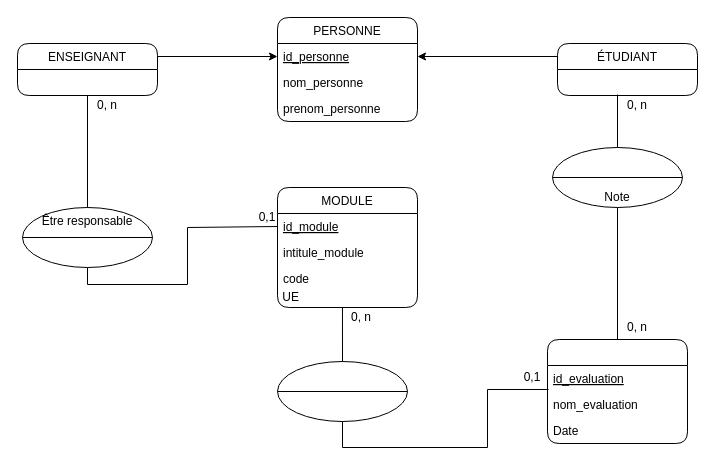
Some shapes in this 715 by 466 pixel diagram are drawn without their labels. The box of each missing label's shape, as (x1, y1, x2, y2) in pixels:
Comporte: (276, 360, 408, 422)
Notation: (552, 146, 682, 208)
ÉVALUATION: (546, 338, 688, 444)
